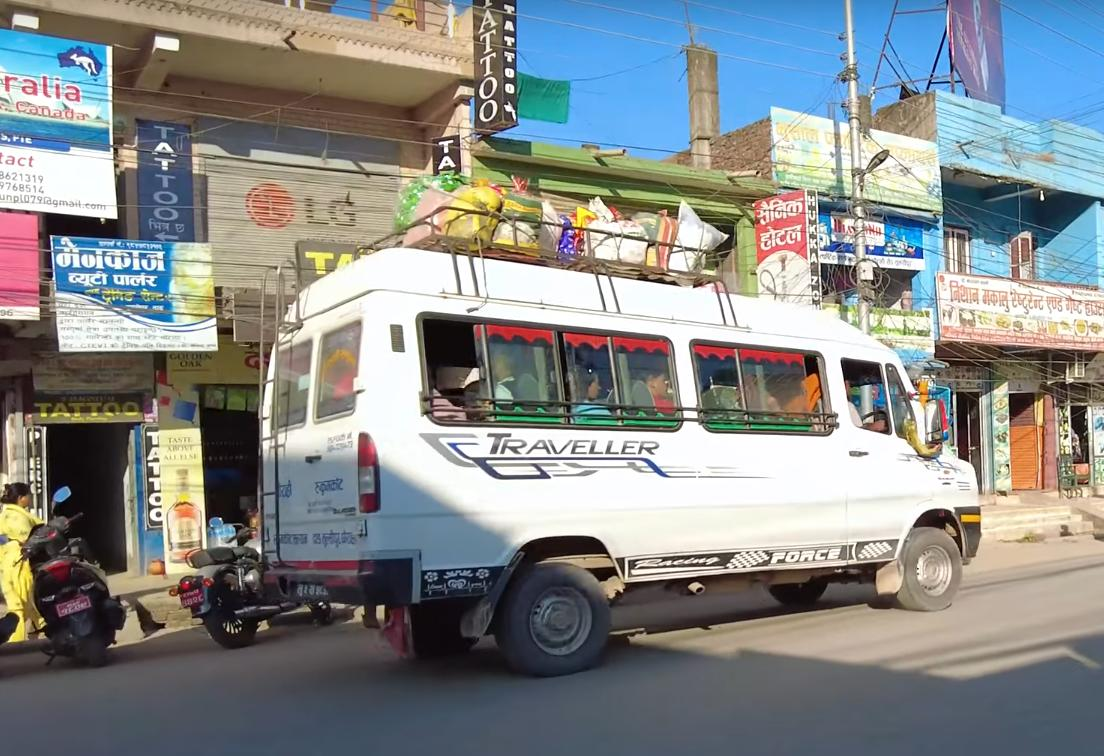bike: (167, 522, 281, 648)
micro_bus: (237, 200, 991, 688)
scooter: (0, 487, 130, 674)
